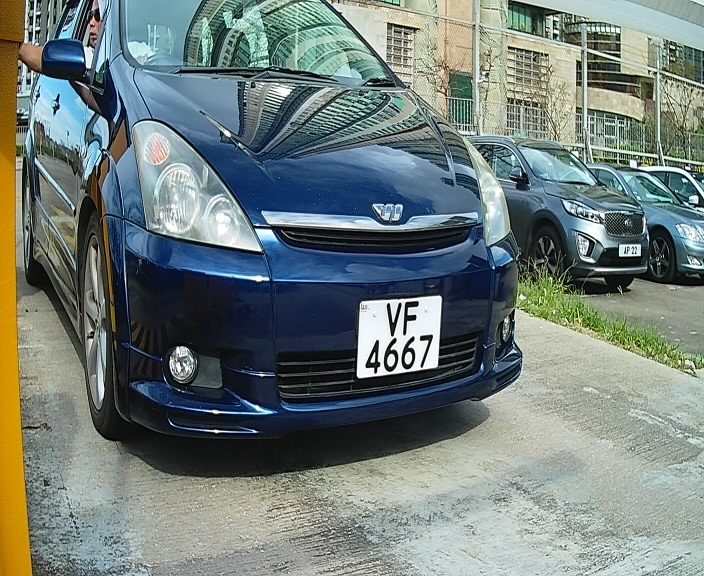Car: (15, 2, 530, 486)
License Plate: (351, 291, 449, 386)
